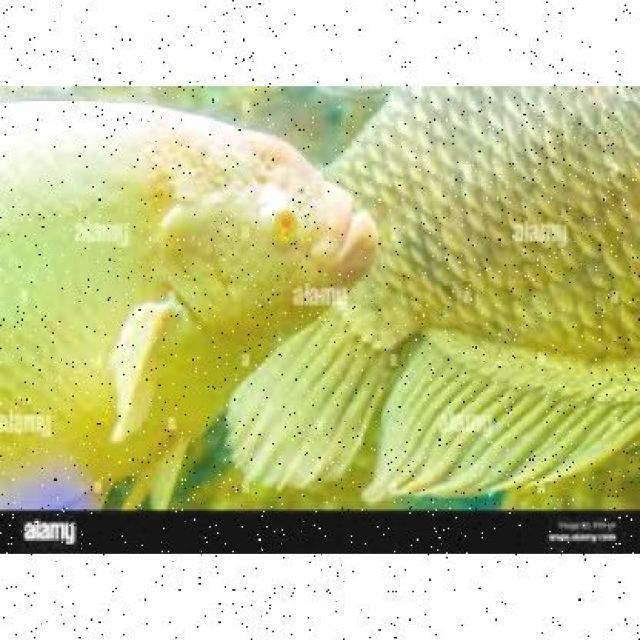gurame: (0, 119, 369, 472)
